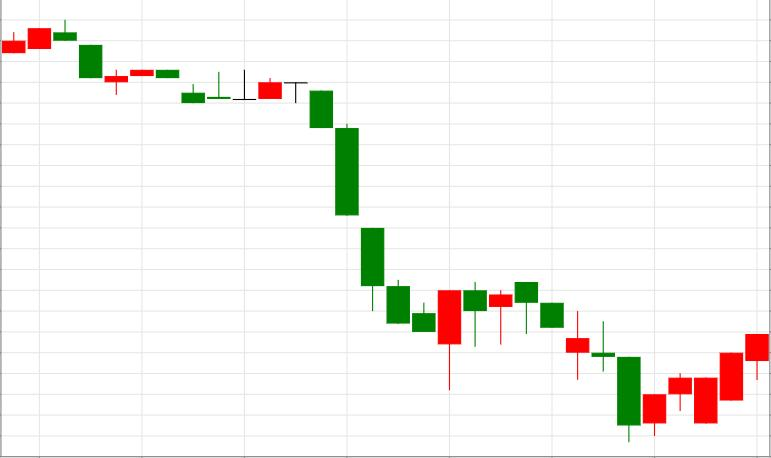bullish_engulfing_rise: (284, 82, 461, 390)
